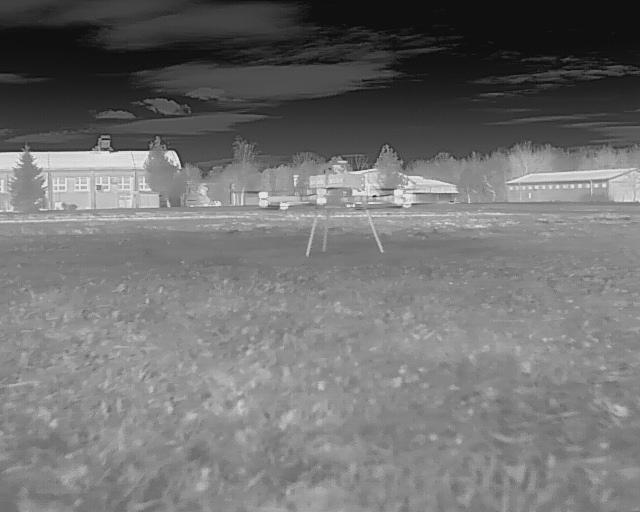drone: (230, 166, 436, 268)
